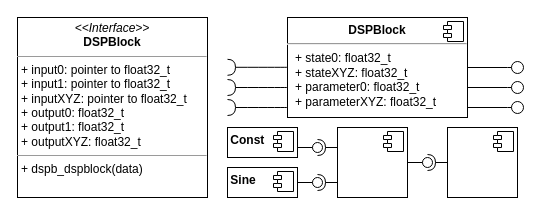
Some shapes in this 545 by 215 pixel diagram are drawn without their labels. The shapes that lost their labels are listed below. From the top down, each one's centre as x and y in pixels, then its label:
At (x=372, y=162): "Add".
At (x=482, y=162): "Scope".
